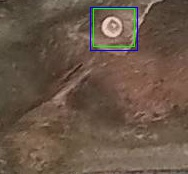text: (93, 8, 134, 46)
